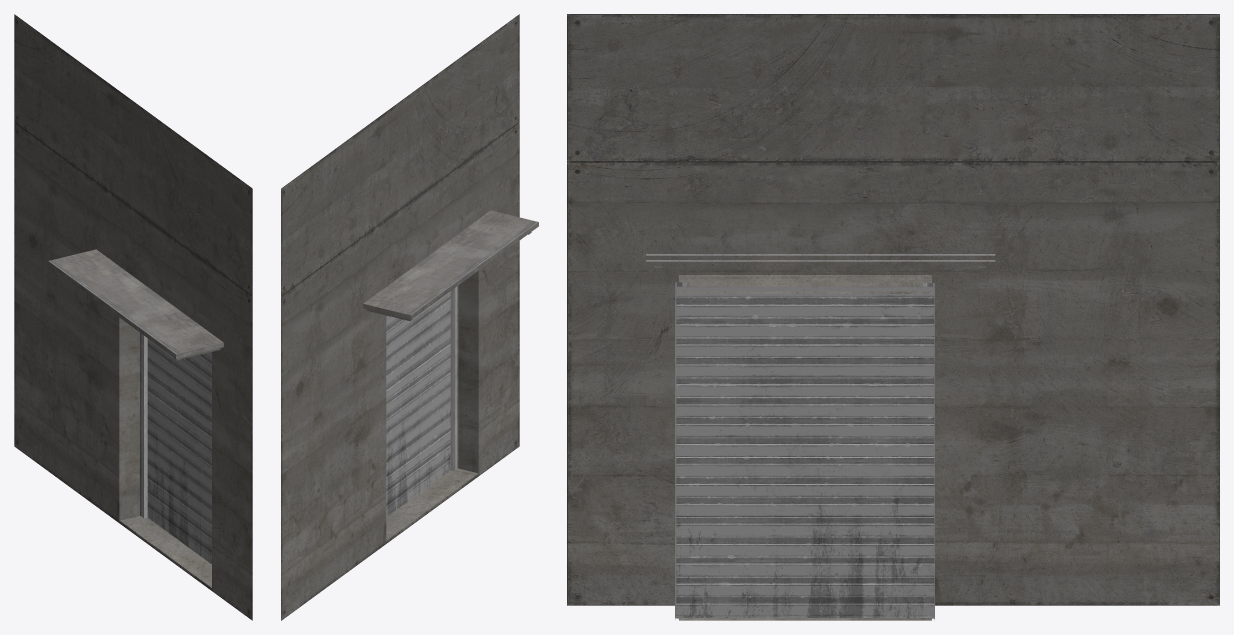
Rendered from CP_Wall_Roller_Shutters_05.fbx.
The picture shows the model from 3 angles, left to right: view 1: azimuth 30°, elevation 25°; view 2: azimuth 150°, elevation 25°; view 3: azimuth 270°, elevation 25°; orthographic projection. The views are drawn at different scales.
Visible parts, largest first — view 1: CP_Wall_Roller_Shutters_05; view 2: CP_Wall_Roller_Shutters_05; view 3: CP_Wall_Roller_Shutters_05.
Part boxes in pixels (x1=…): CP_Wall_Roller_Shutters_05: x1=14, y1=14, x2=252, y2=620; CP_Wall_Roller_Shutters_05: x1=281, y1=14, x2=538, y2=620; CP_Wall_Roller_Shutters_05: x1=567, y1=14, x2=1219, y2=620.
Bounding box in the file's own units: 73.63 × 400 × 400.
